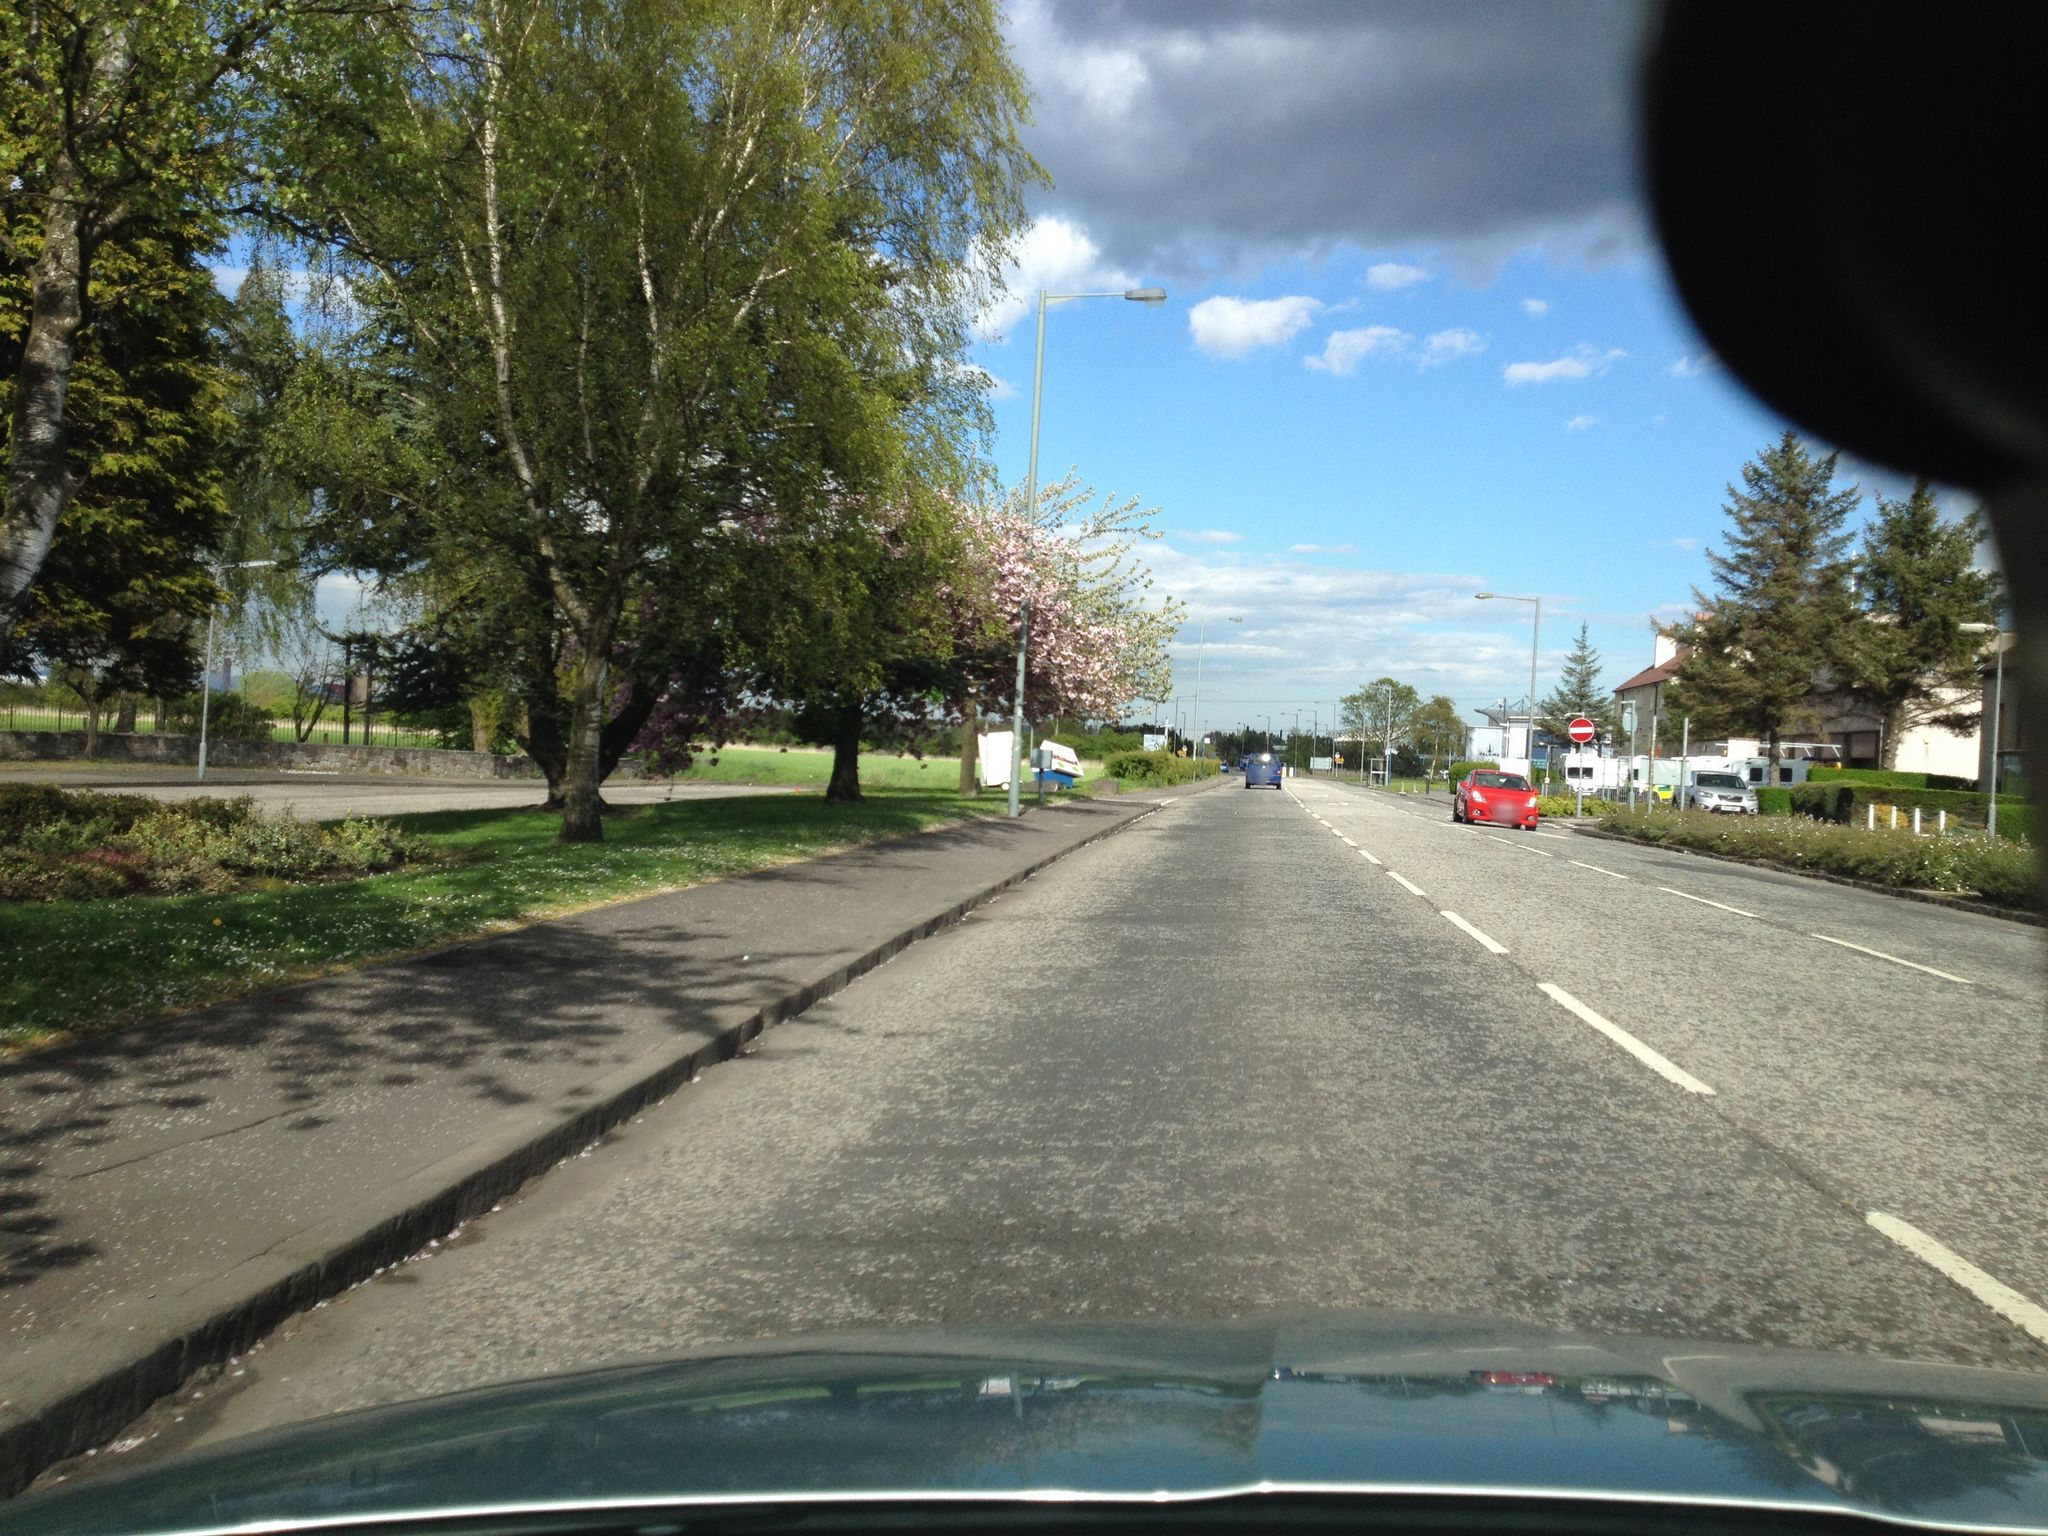car: (1453, 768, 1538, 829), (1669, 770, 1759, 815), (1243, 752, 1284, 791)
